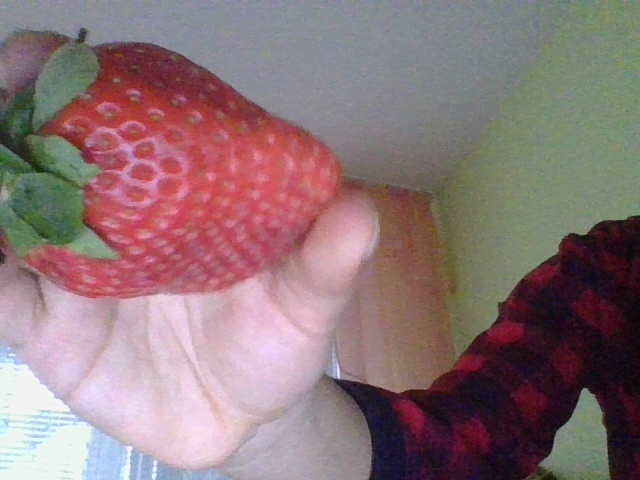ripe: (11, 41, 344, 300)
